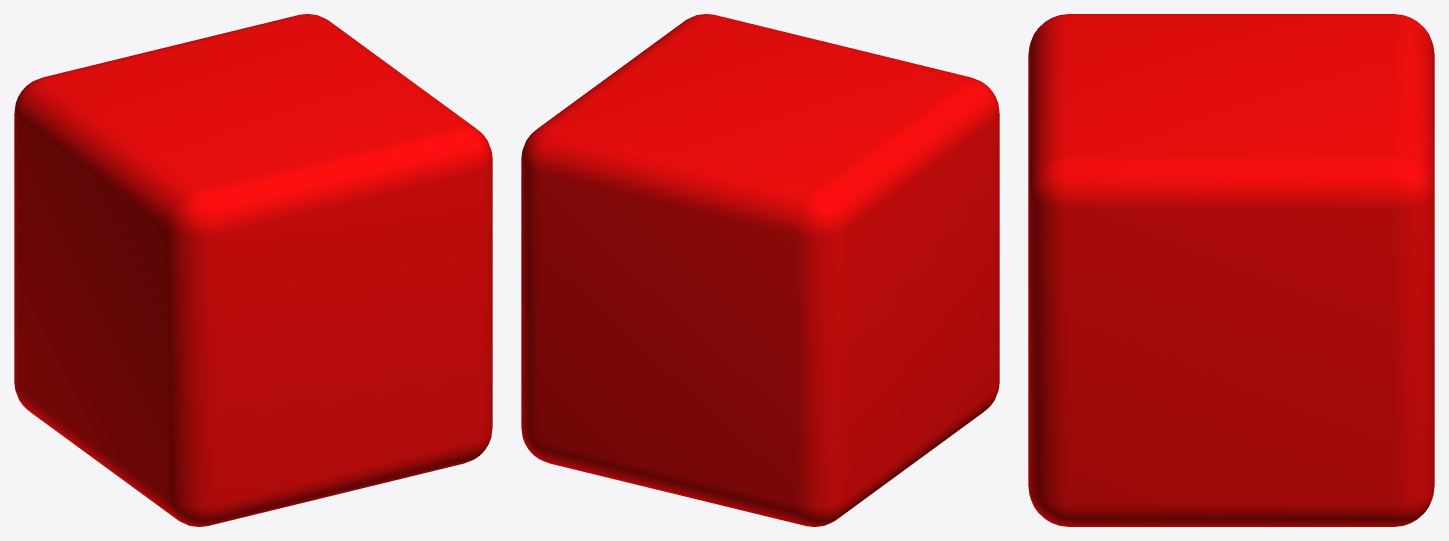
File: Block.fbx
3 renders of one model, left to right at view 1: azimuth 30°, elevation 25°; view 2: azimuth 150°, elevation 25°; view 3: azimuth 270°, elevation 25°, orthographic. The views are drawn at different scales.
Parts seen in each view (by area): view 1: Cube.001; view 2: Cube.001; view 3: Cube.001.
Boxes of the visible parts, x1=… form: Cube.001: x1=14, y1=14, x2=492, y2=526; Cube.001: x1=521, y1=14, x2=999, y2=526; Cube.001: x1=1028, y1=14, x2=1434, y2=526.
Bounding box in the file's own units: 200 × 200 × 200.
